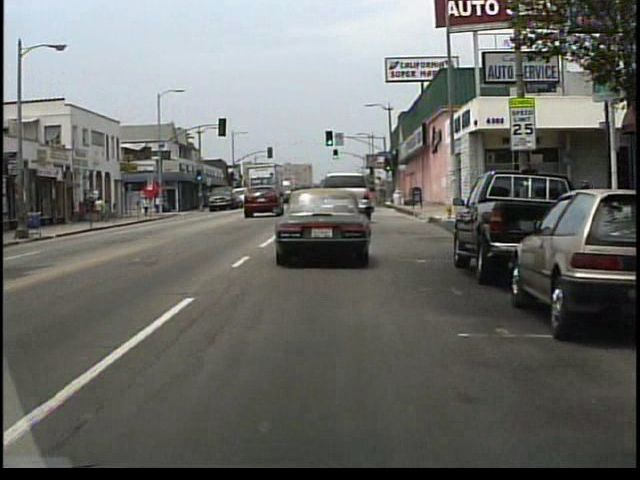person: (96, 196, 106, 223), (142, 197, 151, 217), (104, 199, 111, 222)
